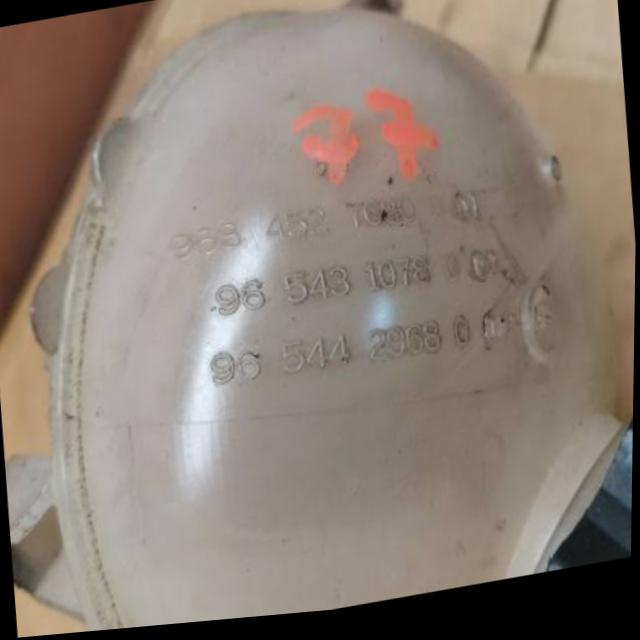ocr: (156, 178, 505, 408)
